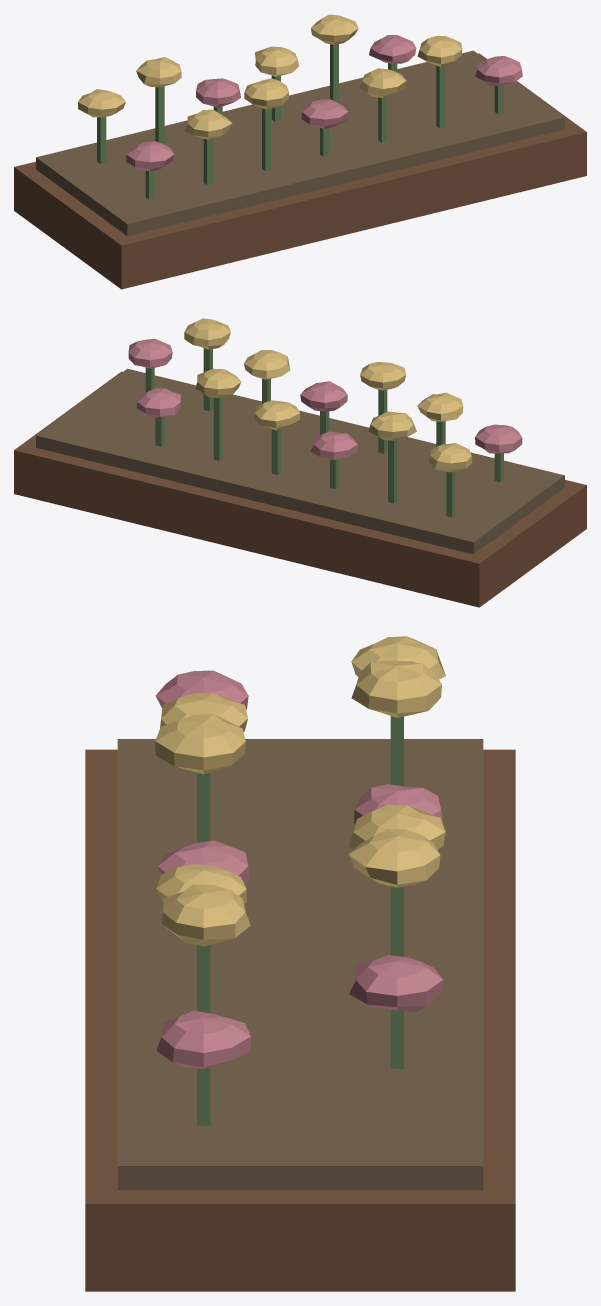
The model's file is SM_FlowerBed.glb.
3 views of the same model, one above another, from view 1: azimuth 30°, elevation 25°; view 2: azimuth 150°, elevation 25°; view 3: azimuth 270°, elevation 25° (orthographic). The views are drawn at different scales.
Parts seen in each view (by area): view 1: SM_FlowerBed; view 2: SM_FlowerBed; view 3: SM_FlowerBed.
Part boxes in pixels (x1,y1,x2,y2): SM_FlowerBed: (14, 14, 586, 289); SM_FlowerBed: (14, 318, 586, 607); SM_FlowerBed: (85, 636, 515, 1291).
Bounding box in the file's own units: 2 × 0.585 × 0.8.
